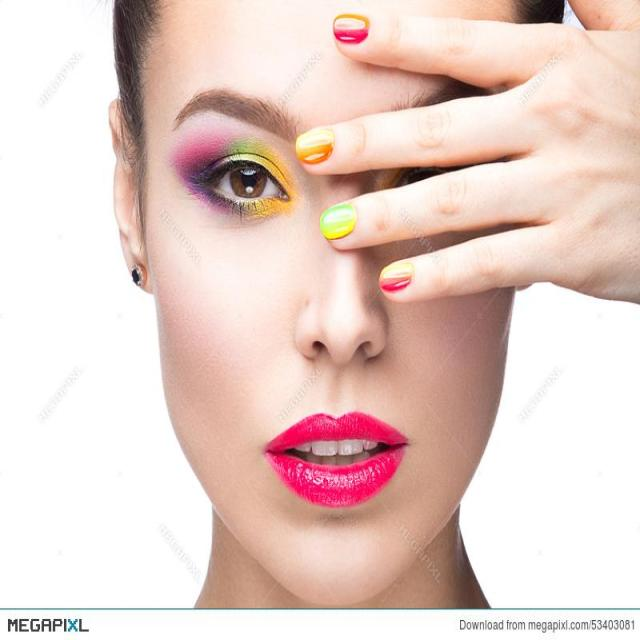Nail: (296, 130, 335, 164), (320, 204, 356, 239), (333, 14, 370, 44), (379, 262, 414, 291)
